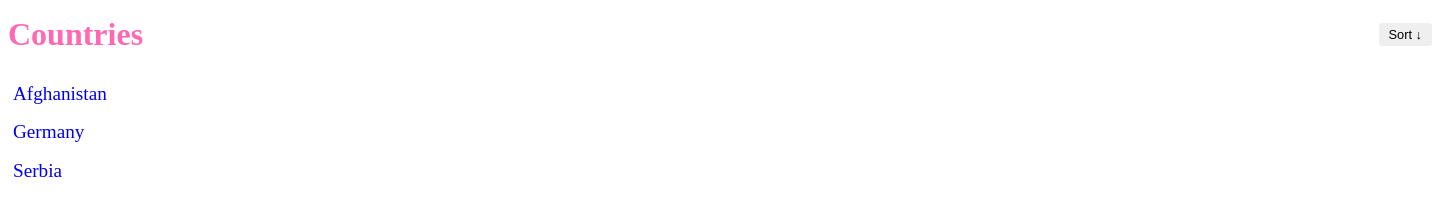
CountryList › sort countries (from a-z to z-a)
Expected: the heading "Countries" is shown, [8,16,143,53]
Click the button with test id "sort": (1405, 35) [1379,23,1432,46]
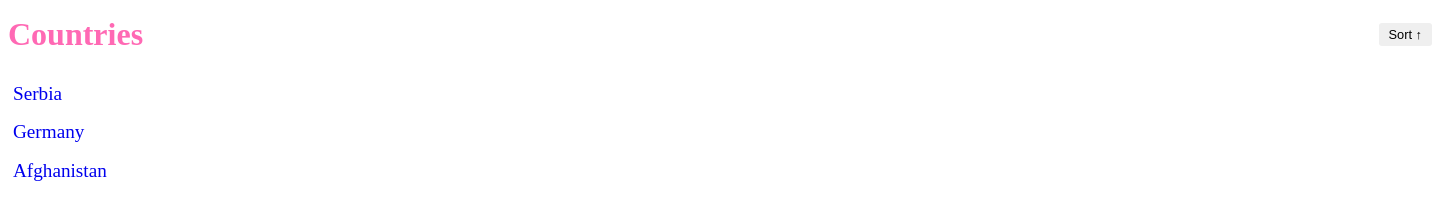
Expected: the list item with test id "country-item" reads "Serbia", [8,75,1432,113]
Result: the button with test id "sort" shows "↑" at [1379,23,1432,46]
